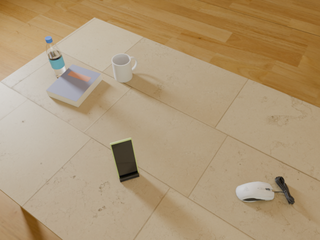book: (46, 65, 102, 107)
bottle: (45, 36, 67, 78)
cup: (112, 54, 138, 82)
mouse: (236, 182, 274, 202)
phone: (110, 138, 138, 178)
